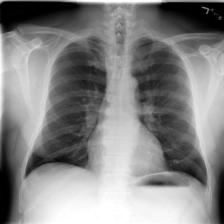normal: (21, 28, 209, 192)
